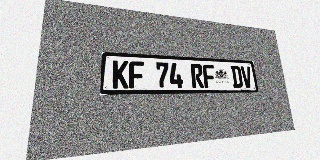4: (169, 63, 183, 88)
7: (155, 62, 170, 88)
D: (230, 66, 243, 88)
F: (129, 61, 144, 88), (202, 64, 216, 88)
K: (112, 60, 128, 88)
R: (190, 64, 204, 88)
V: (240, 66, 253, 88)
